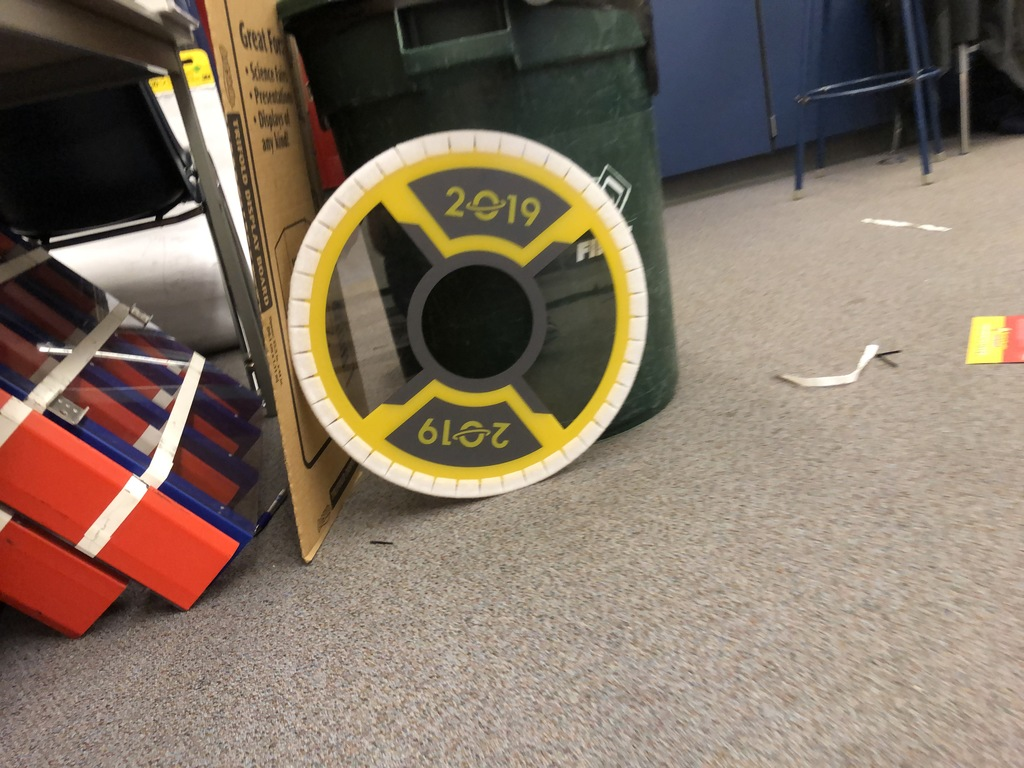hatch_panel: (277, 111, 662, 521)
